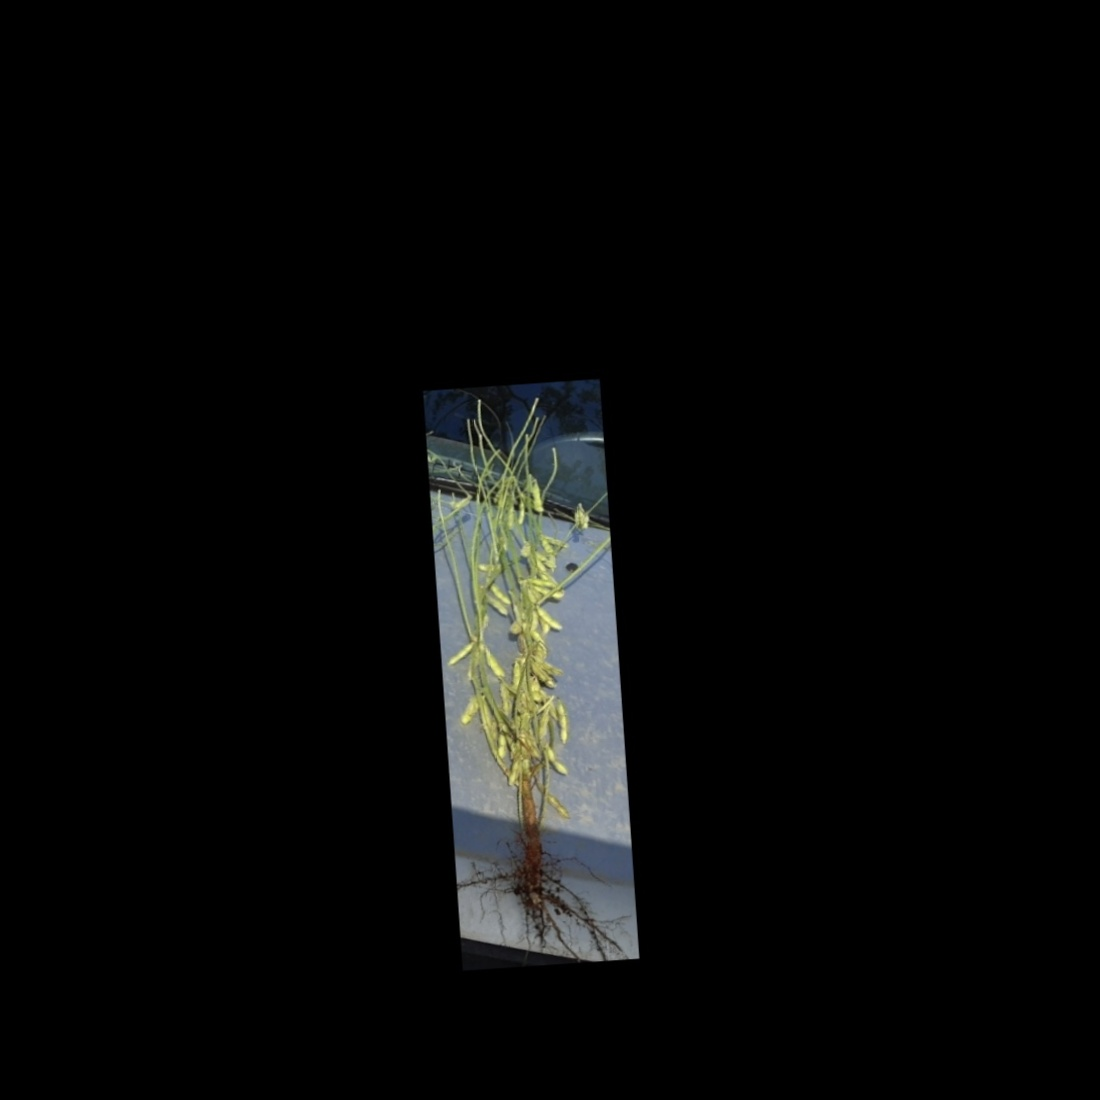pod: (480, 642, 508, 683), (544, 745, 574, 781), (544, 790, 573, 823), (553, 696, 571, 748), (533, 604, 564, 633), (529, 482, 547, 515), (489, 582, 512, 607)
soy: (429, 424, 632, 946)
